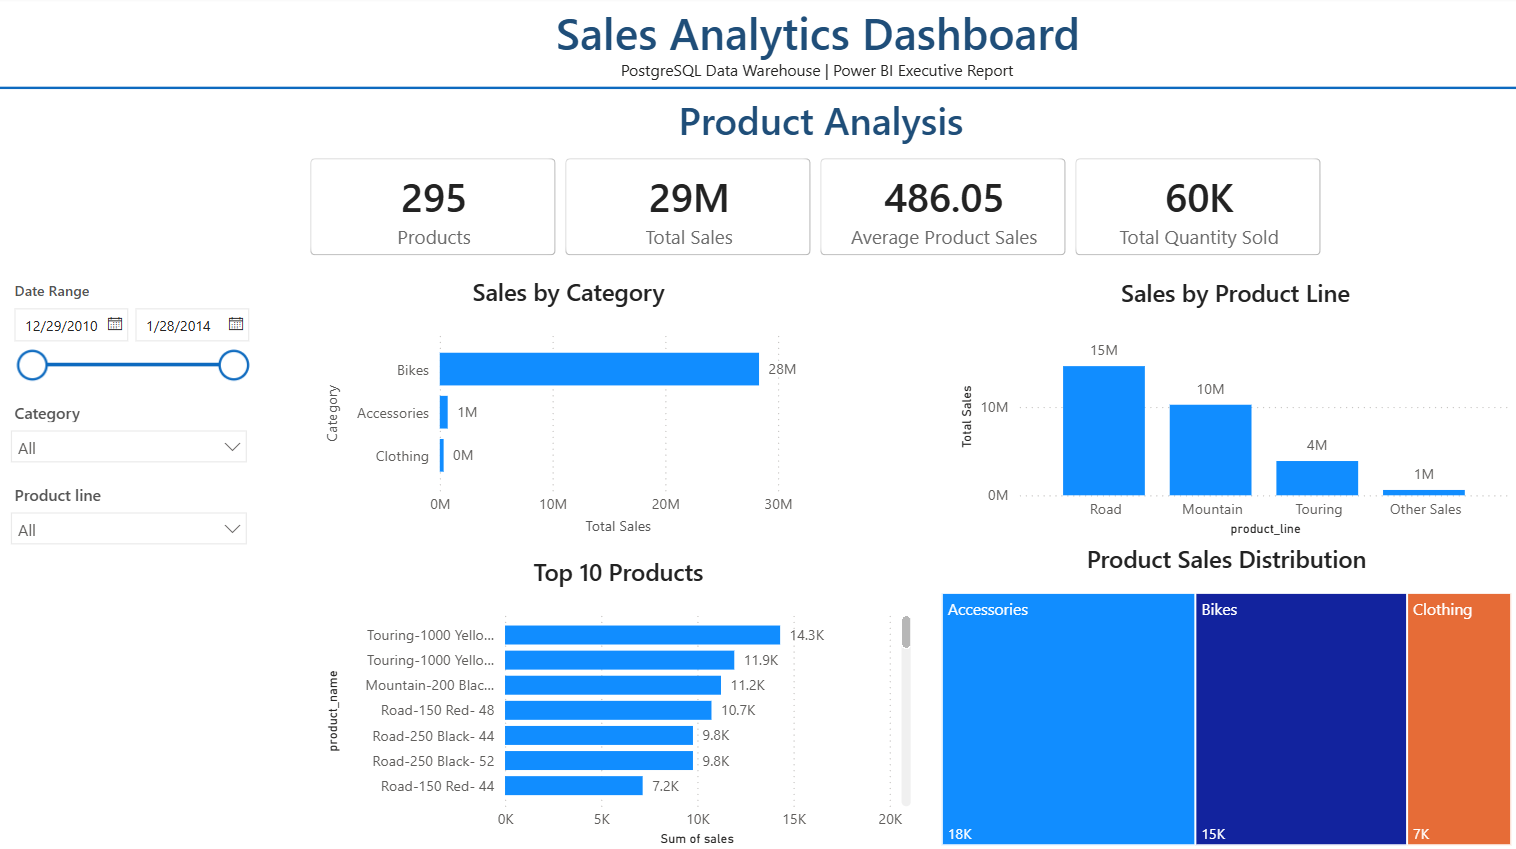

What the dashboard file says about the page in this screenshot:
{"tool":"powerbi","page":{"name":"Product Analysis","canvas":[1280,720],"ordinal":2},"visuals":[{"type":"textbox","box":[9.9,0,180,32.2],"z":0},{"type":"cardVisual","fields":{"Data":["gold dim_products.Products","gold fact_sales.Total Sales","gold fact_sales.Average Product Sales","Sum(gold fact_sales.quantity)"]},"box":[245.1,118.7,888,116.7],"z":1000},{"type":"clusteredBarChart","title":"Sales by Category","fields":{"Category":["gold dim_products.category"],"Y":["gold fact_sales.Total Sales"]},"box":[270.4,234.6,419.1,223.9],"z":2000},{"type":"clusteredBarChart","title":"Top 10 Products","fields":{"Y":["Sum(gold fact_sales.sales)"],"Category":["gold dim_products.product_name"]},"box":[270.4,470.1,503.3,249.9],"z":3000},{"type":"textbox","box":[460.3,0,460.3,64.5],"z":4000},{"type":"textbox","box":[550.7,77,293.7,64.5],"z":5000},{"type":"shape","box":[0,64.5,1279.7,25.1],"z":6000},{"type":"textbox","box":[514.9,47.5,349.3,29.6],"z":7000},{"type":"clusteredColumnChart","title":"Sales by Product Line","fields":{"Y":["gold fact_sales.Total Sales"],"Category":["gold dim_products.product_line"]},"box":[805.1,235.5,474.6,223.9],"z":8000},{"type":"treemap","title":"Product Sales Distribution","fields":{"Group":["gold dim_products.category"],"Values":["gold fact_sales.Total Orders"]},"box":[789.9,459.4,489.9,260.6],"z":9000},{"type":"slicer","title":"Data","fields":{"Values":["gold fact_sales.order_date"]},"box":[0,234.6,219.4,102.1],"z":10000},{"type":"slicer","fields":{"Values":["gold dim_products.category"]},"box":[0,336.7,219.4,69],"z":11000},{"type":"slicer","fields":{"Values":["gold dim_products.product_line"]},"box":[0,405.7,219.4,69],"z":12000}]}

Visuals, with their boxes in screenshot pixels (x1, y1, x2, y2), scaled from the page's 1280x720 canvas onto the 1516x849 screenshot:
textbox: pyautogui.locateOnScreen(12, 0, 225, 38)
cardVisual - gold dim_products.Products x gold fact_sales.Total Sales: pyautogui.locateOnScreen(290, 140, 1342, 278)
"Sales by Category" clusteredBarChart: pyautogui.locateOnScreen(320, 277, 817, 541)
"Top 10 Products" clusteredBarChart: pyautogui.locateOnScreen(320, 554, 916, 848)
textbox: pyautogui.locateOnScreen(545, 0, 1090, 76)
textbox: pyautogui.locateOnScreen(652, 91, 1000, 167)
shape: pyautogui.locateOnScreen(0, 76, 1515, 106)
textbox: pyautogui.locateOnScreen(610, 56, 1024, 91)
"Sales by Product Line" clusteredColumnChart: pyautogui.locateOnScreen(954, 278, 1515, 542)
"Product Sales Distribution" treemap: pyautogui.locateOnScreen(936, 542, 1515, 848)
"Data" slicer: pyautogui.locateOnScreen(0, 277, 260, 397)
slicer - gold dim_products.category: pyautogui.locateOnScreen(0, 397, 260, 478)
slicer - gold dim_products.product_line: pyautogui.locateOnScreen(0, 478, 260, 560)
